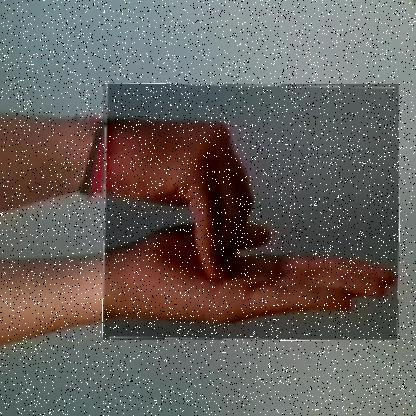Z: (103, 84, 400, 341)
